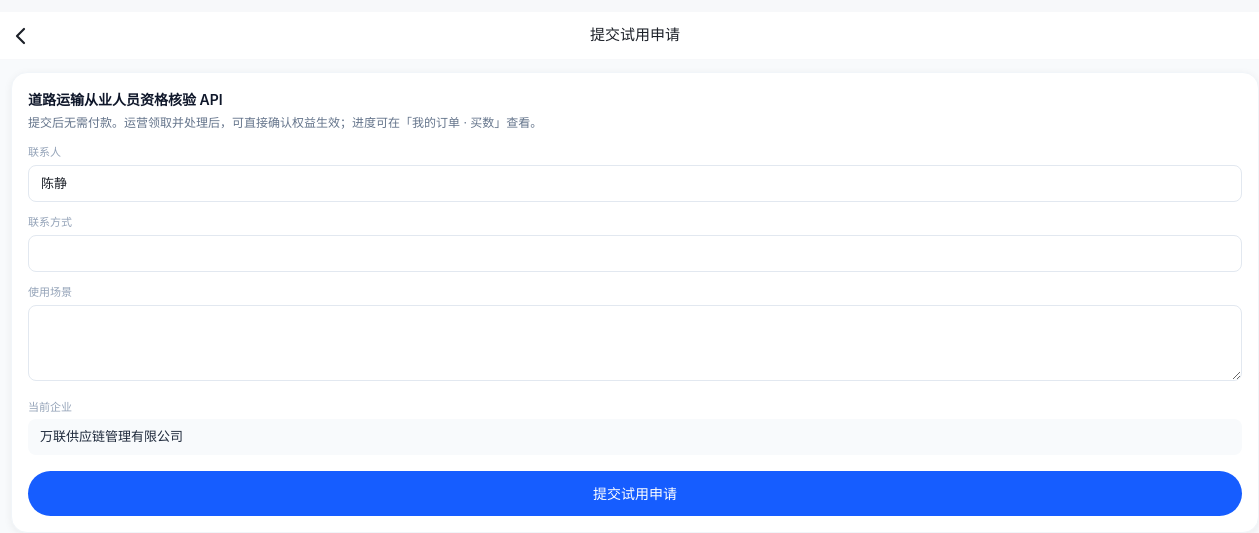
Test case: SpaceIntentForm › blocks a second portal trial submit and stays on the form
In the field with test id "contact-phone": [635, 253] box top-left (28, 234), bottom-right (1242, 272), type "13800000001"
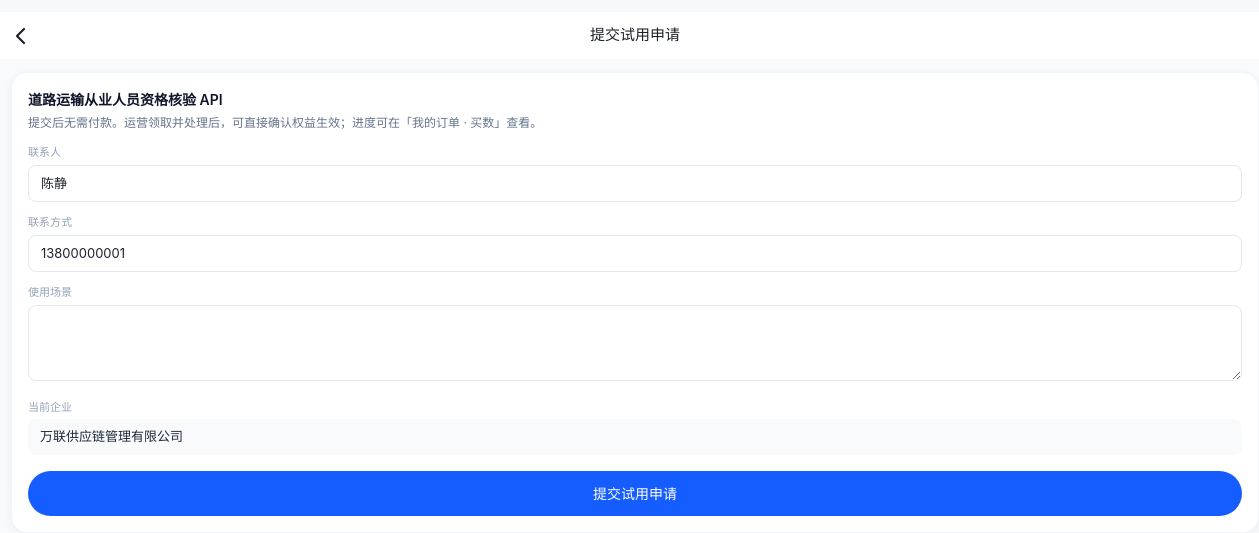
In the text box with test id "scenario": [635, 343] box top-left (28, 304), bottom-right (1242, 381), type "再次申请"
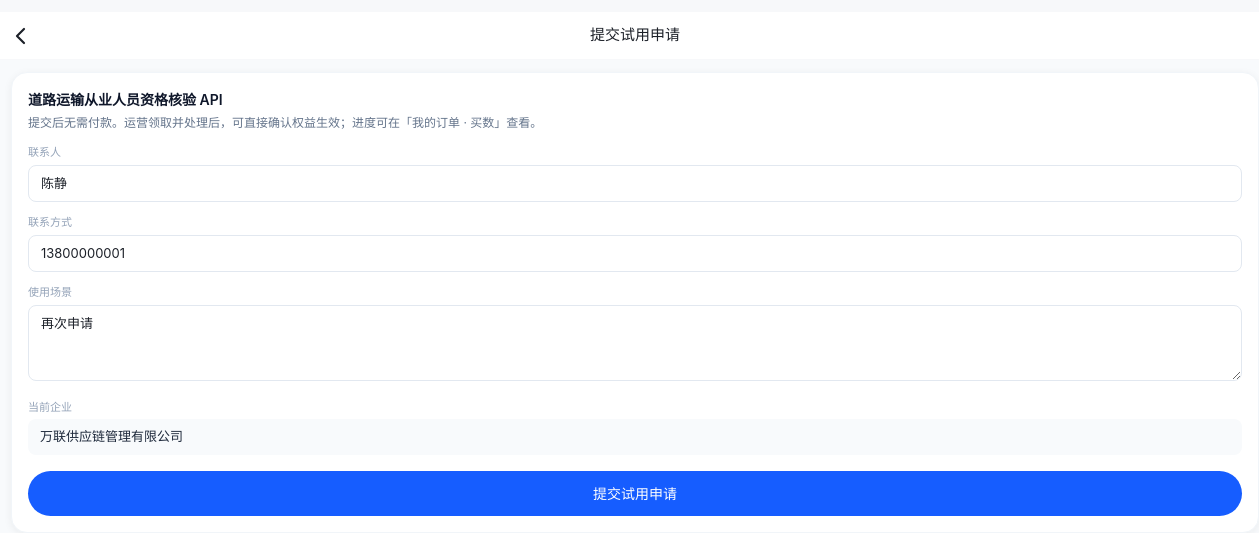
Click the button with test id "submit-intent": [635, 493] box top-left (28, 470), bottom-right (1242, 516)
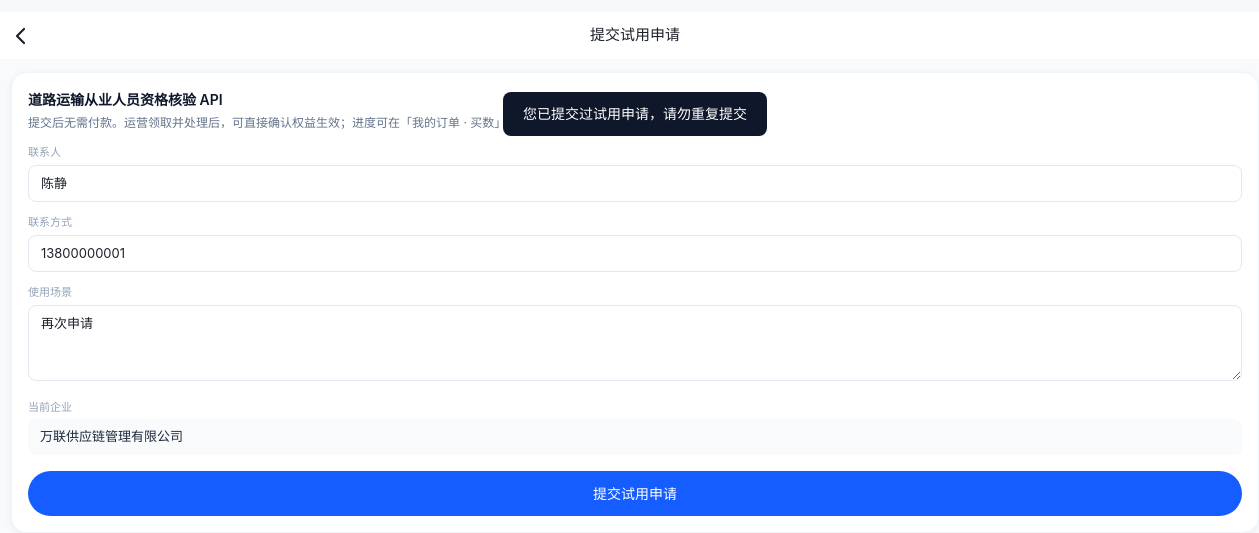
Result: the message "您已提交过试用申请，请勿重复提交" is shown at top-left (503, 92), bottom-right (767, 136)
